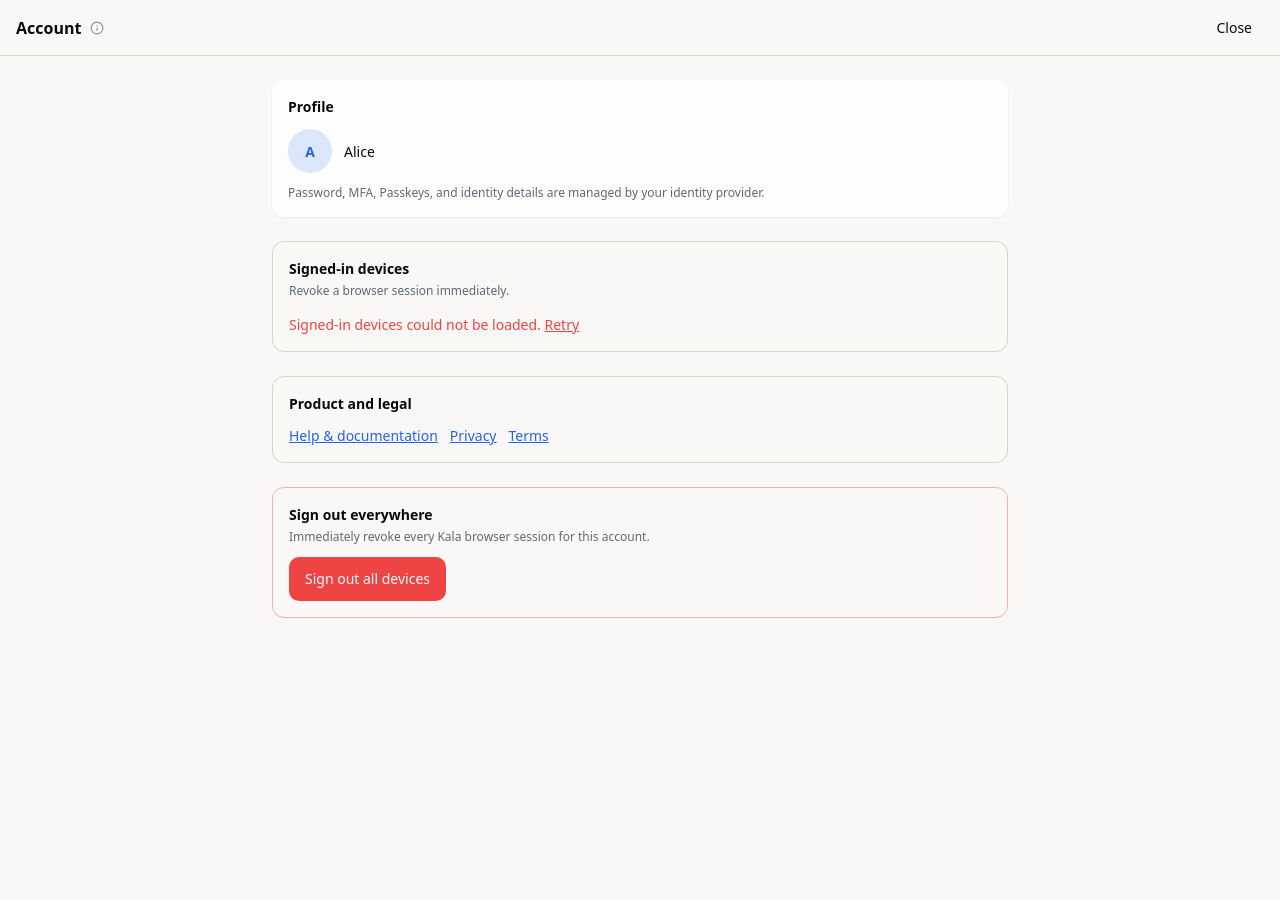
Test: AccountCenter › shows retry on load failure and provides logout-all POST form
Expected: the message "Signed-in devices could not be loaded. Retry" is shown, left=289, top=315, right=579, bottom=335
Expected: the text "Profile, sessions, security, and product information" is not shown
Click the button named "About Account".
click(97, 28)  # box left=85, top=16, right=109, bottom=40
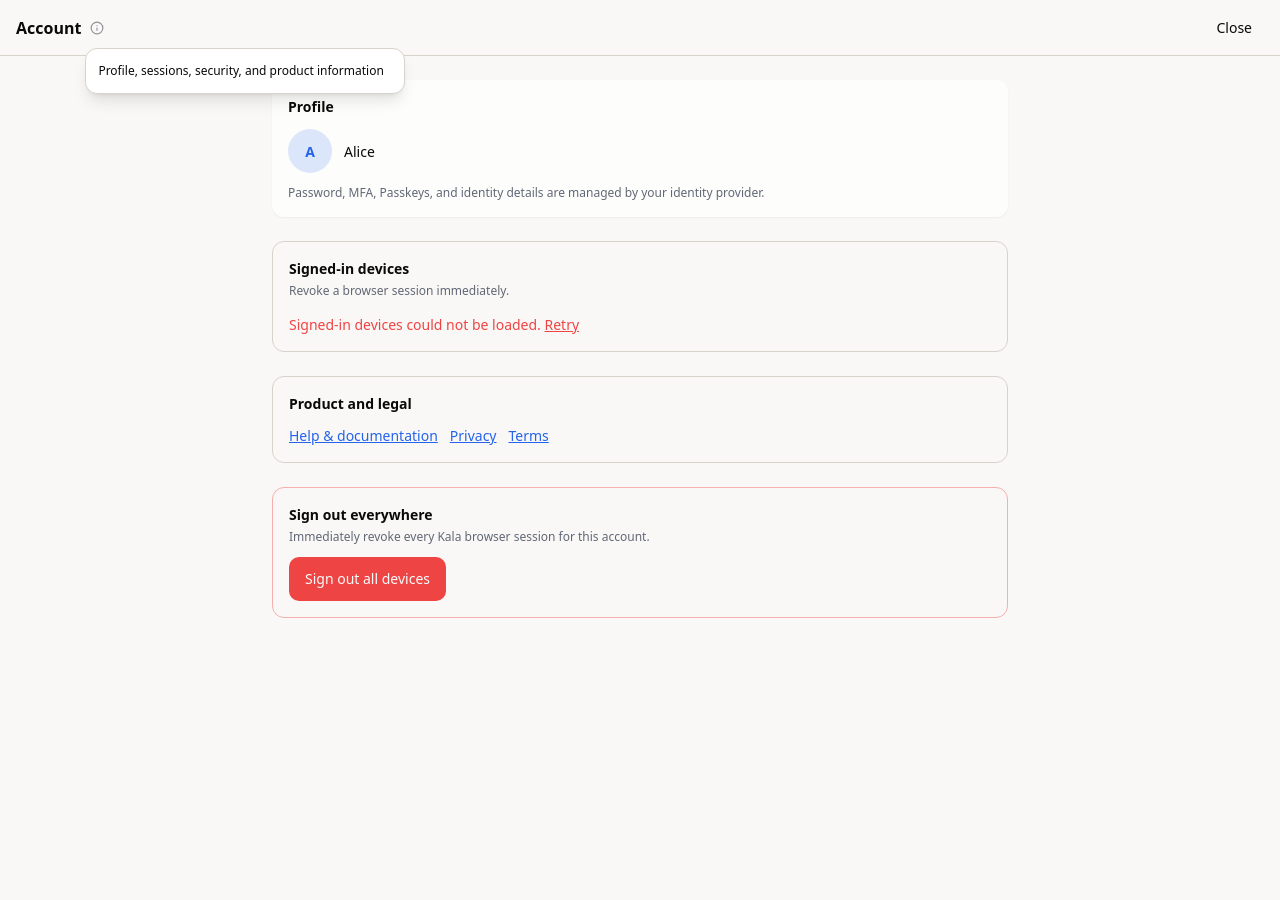
Expected: the message "Signed-in devices could not be loaded. Retry" is shown, left=289, top=315, right=579, bottom=335
Now the tooltip reads "Profile, sessions, security, and product information", box left=98, top=62, right=384, bottom=78
